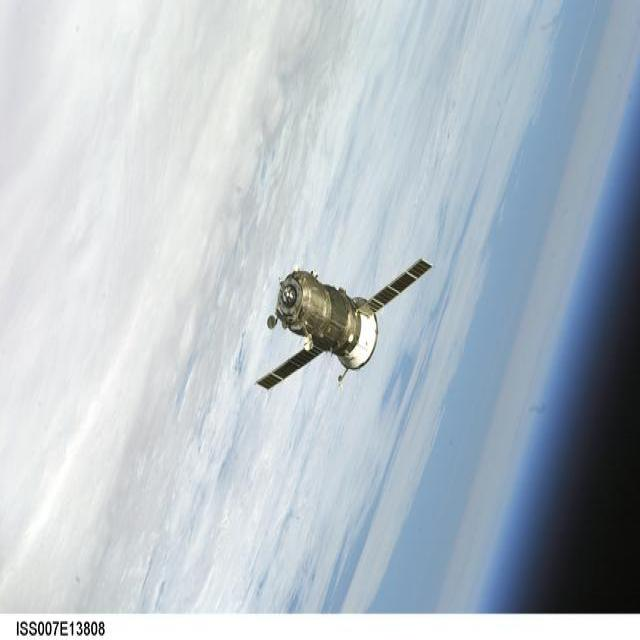medium_debris: (256, 258, 431, 387)
